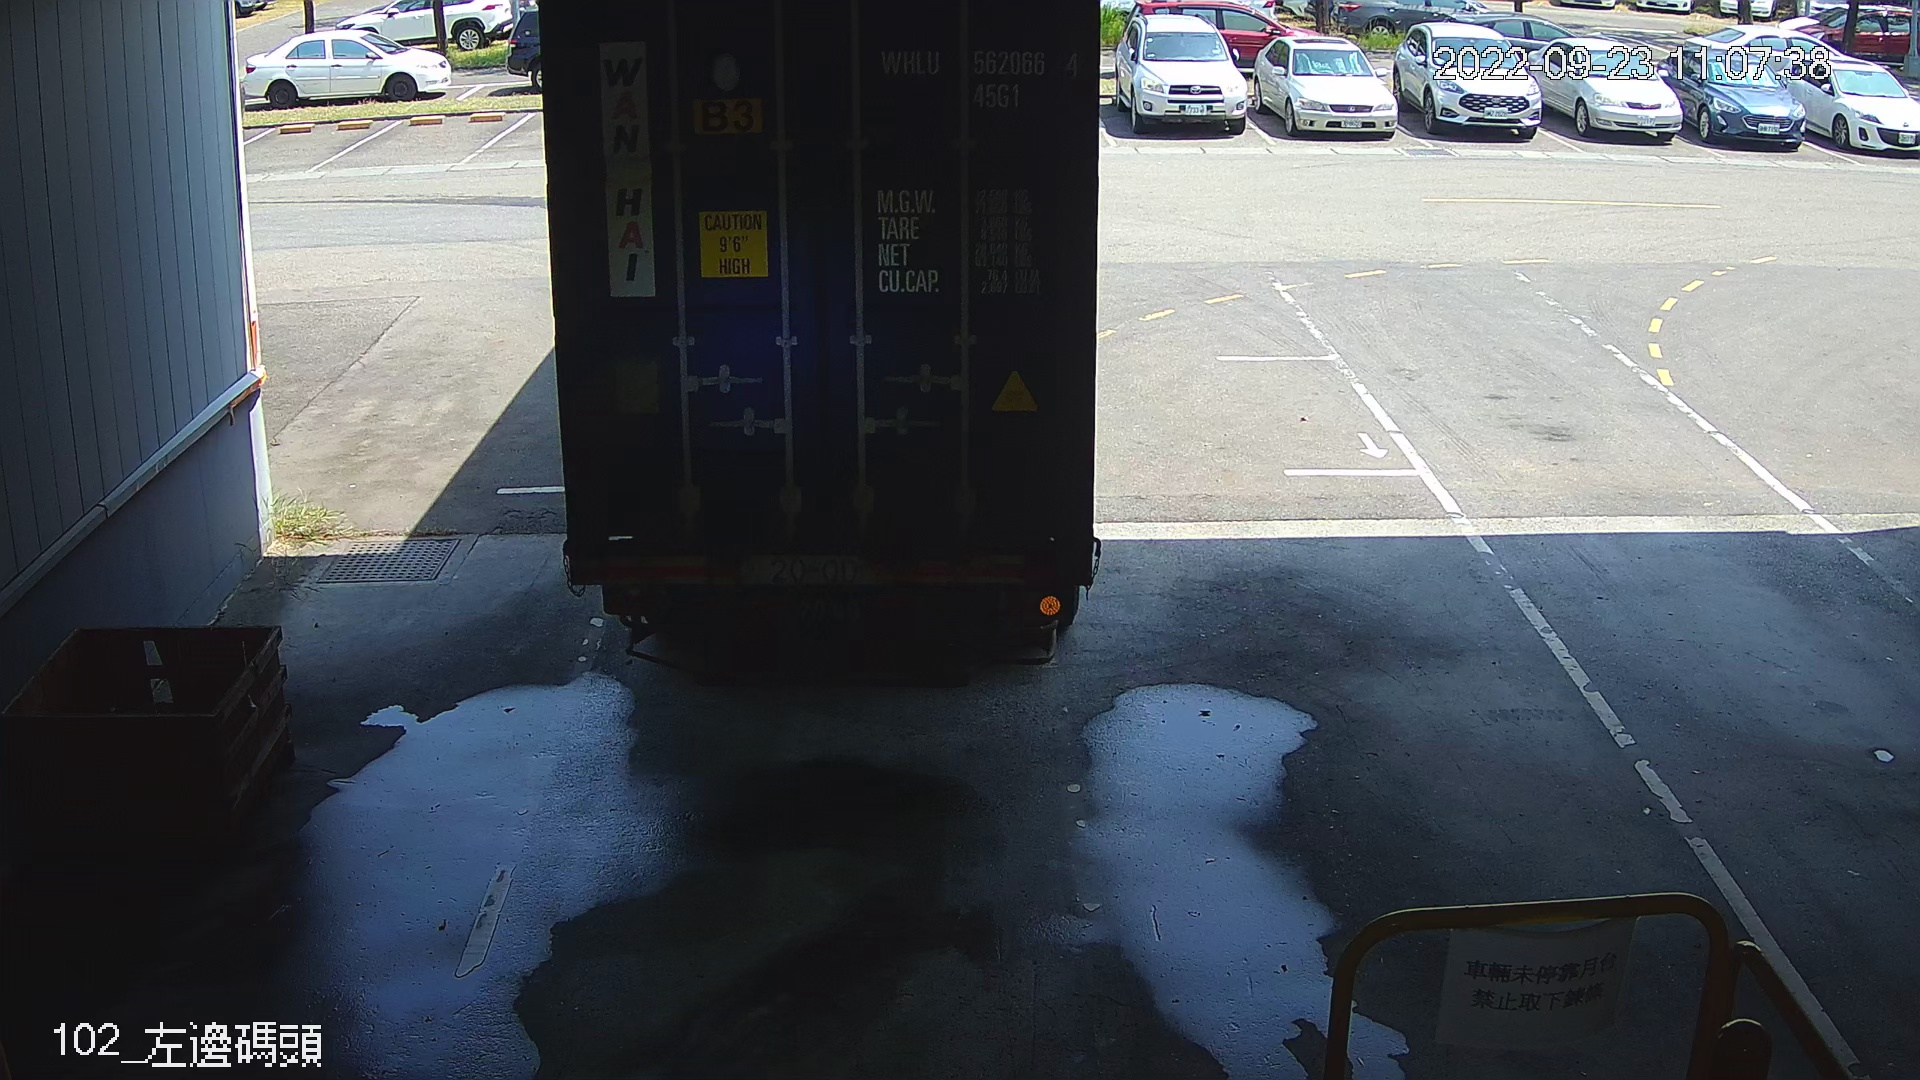container: (866, 40, 1091, 117)
